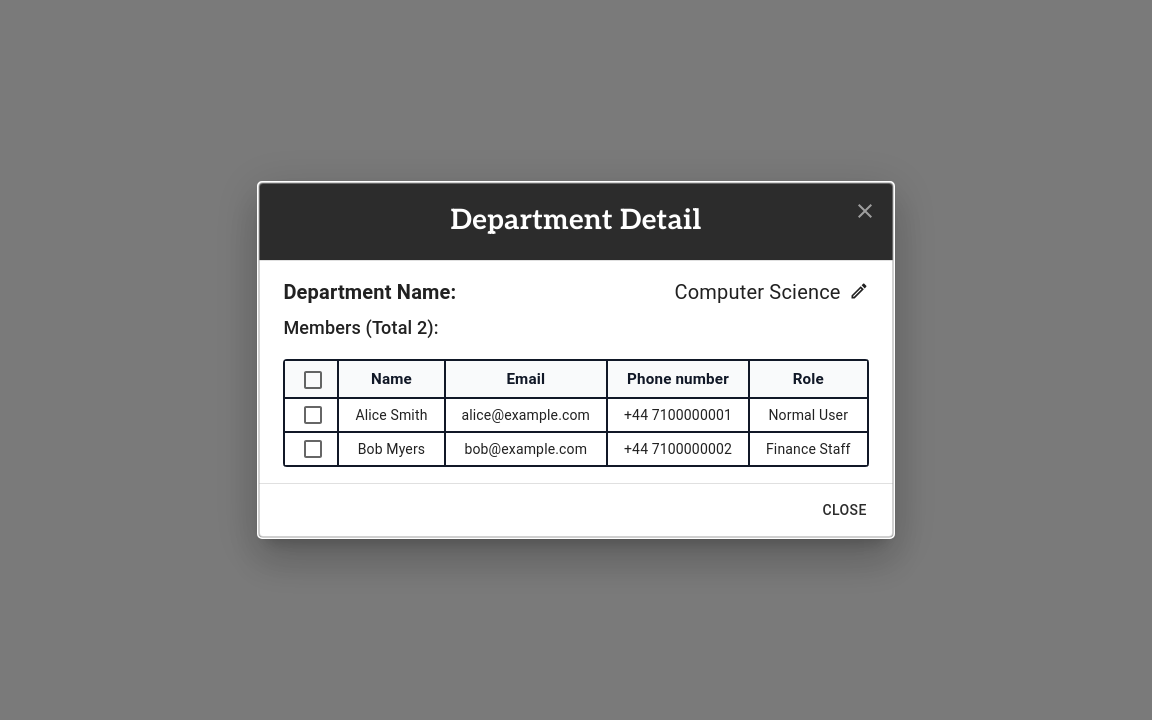
Test: Super-admin ViewDepartmentDialog › department name update network error shows generic error snackbar
expect the text "Alice Smith" is shown: met, box [339,399,446,433]
Click the icon next to "Computer Science" at (859, 291), box [849,281,869,301]
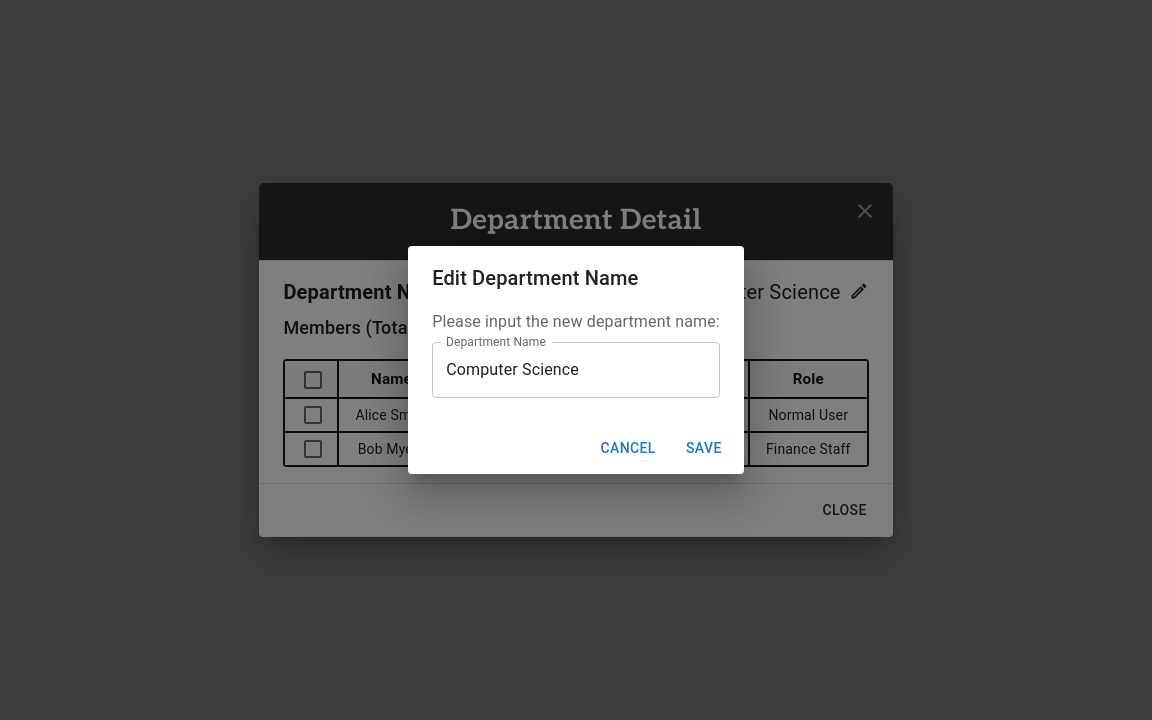
Replace the text in the field labelled "Department Name" with "Other" at (576, 370), box [432,342,720,398]
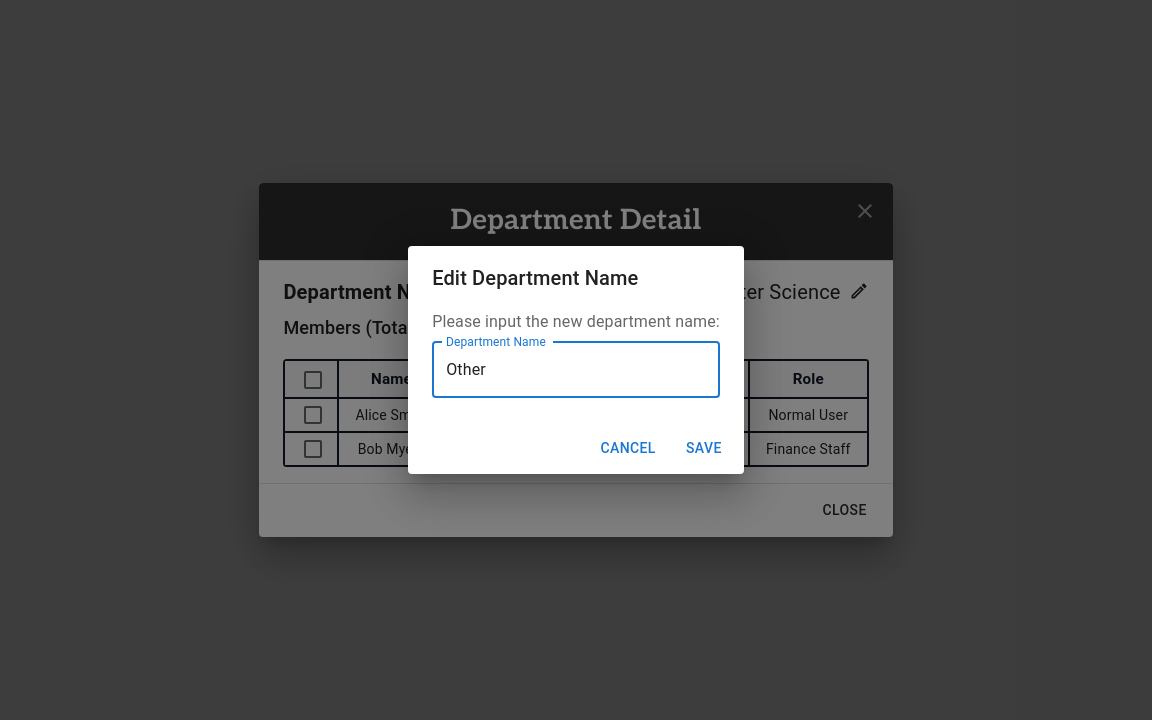
Click the button "Save" at (704, 448), box [672,430,736,466]
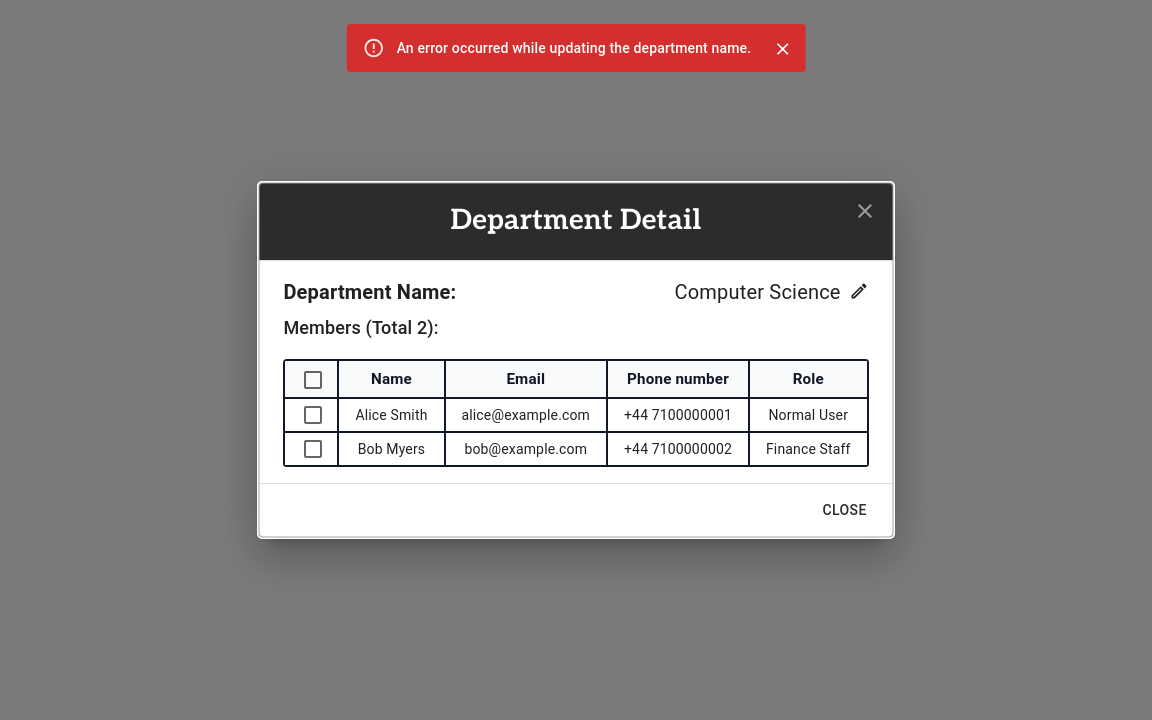
expect the text "An error occurred while updating the department name." is shown: met, box [397,40,751,56]
